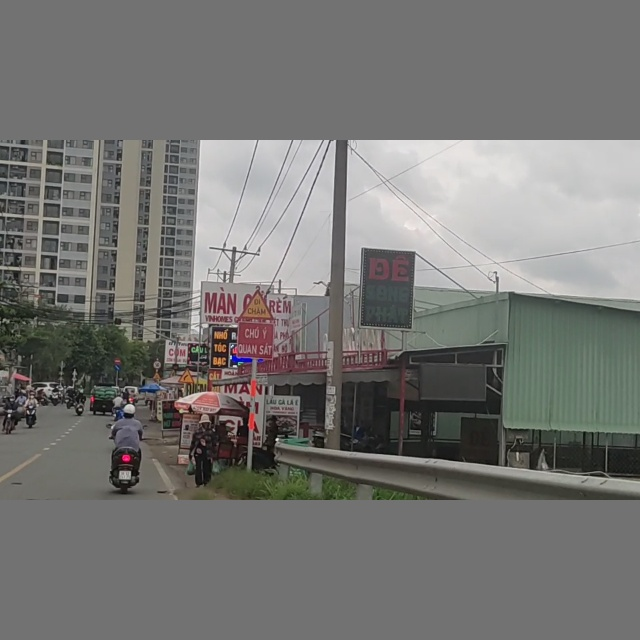W.201b: (178, 367, 195, 384)
W.245a: (240, 290, 273, 319)
